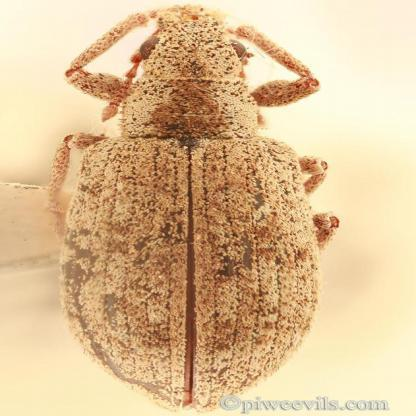rice-bug: (54, 7, 332, 408)
